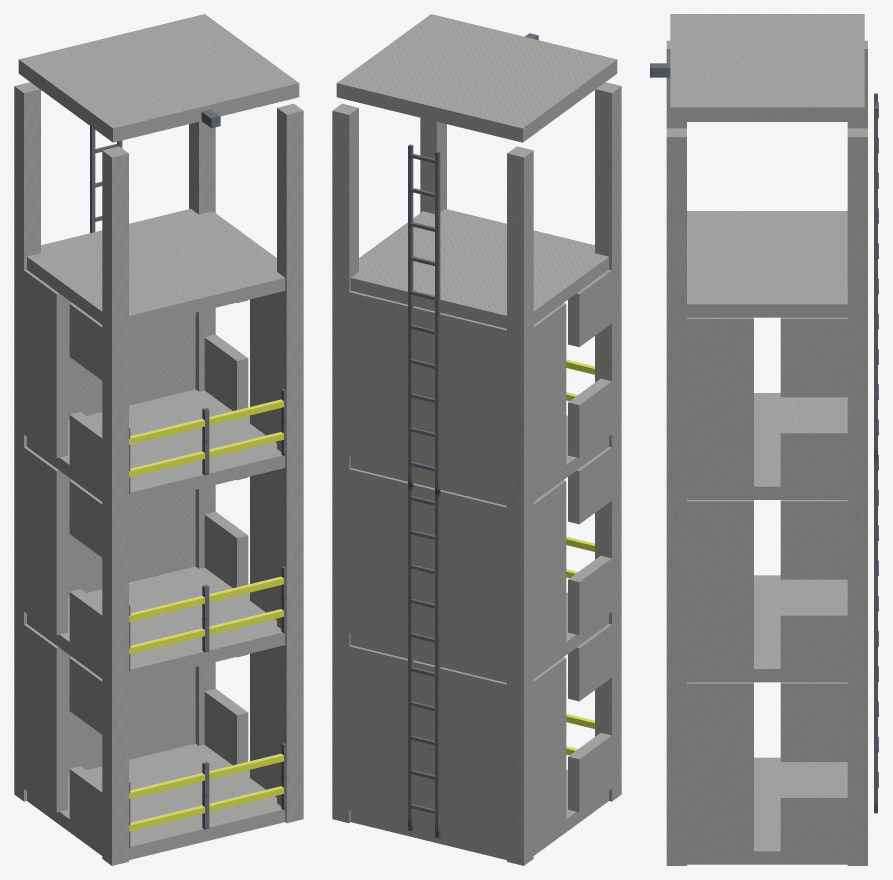
3 views of the same model, side by side, from view 1: azimuth 30°, elevation 25°; view 2: azimuth 150°, elevation 25°; view 3: azimuth 270°, elevation 25° (orthographic). The views are drawn at different scales.
Parts seen in each view (by area): view 1: drill-tower; view 2: drill-tower; view 3: drill-tower.
Part boxes in pixels (x1,y1,x2,y2): drill-tower: (14,14,303,865); drill-tower: (332,14,621,865); drill-tower: (650,14,878,865).
Bounding box in the file's own units: 3.4 × 12.46 × 3.42.
3 materials, 2 textured.
